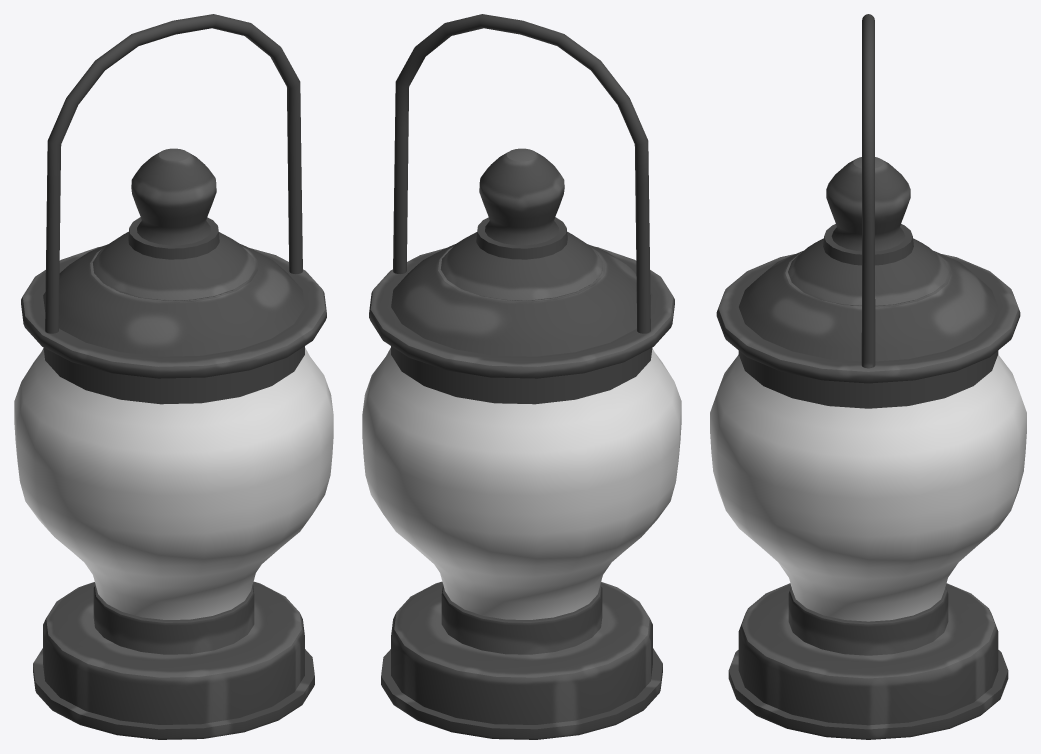
File: lampara.fbx
The picture shows the model from 3 angles, left to right: view 1: azimuth 30°, elevation 25°; view 2: azimuth 150°, elevation 25°; view 3: azimuth 270°, elevation 25°; orthographic projection.
Parts seen in each view (by area): view 1: Lampara_cuerpo, Lampara_vidrio; view 2: Lampara_cuerpo, Lampara_vidrio; view 3: Lampara_cuerpo, Lampara_vidrio.
Boxes of the visible parts, left/top/right/bottom form: Lampara_cuerpo: left=21, top=14, right=326, bottom=739; Lampara_vidrio: left=14, top=348, right=333, bottom=619; Lampara_cuerpo: left=369, top=14, right=674, bottom=739; Lampara_vidrio: left=362, top=348, right=681, bottom=619; Lampara_cuerpo: left=716, top=14, right=1020, bottom=739; Lampara_vidrio: left=710, top=354, right=1026, bottom=621.
Size of the model in its own units: 244 by 554 by 244.
